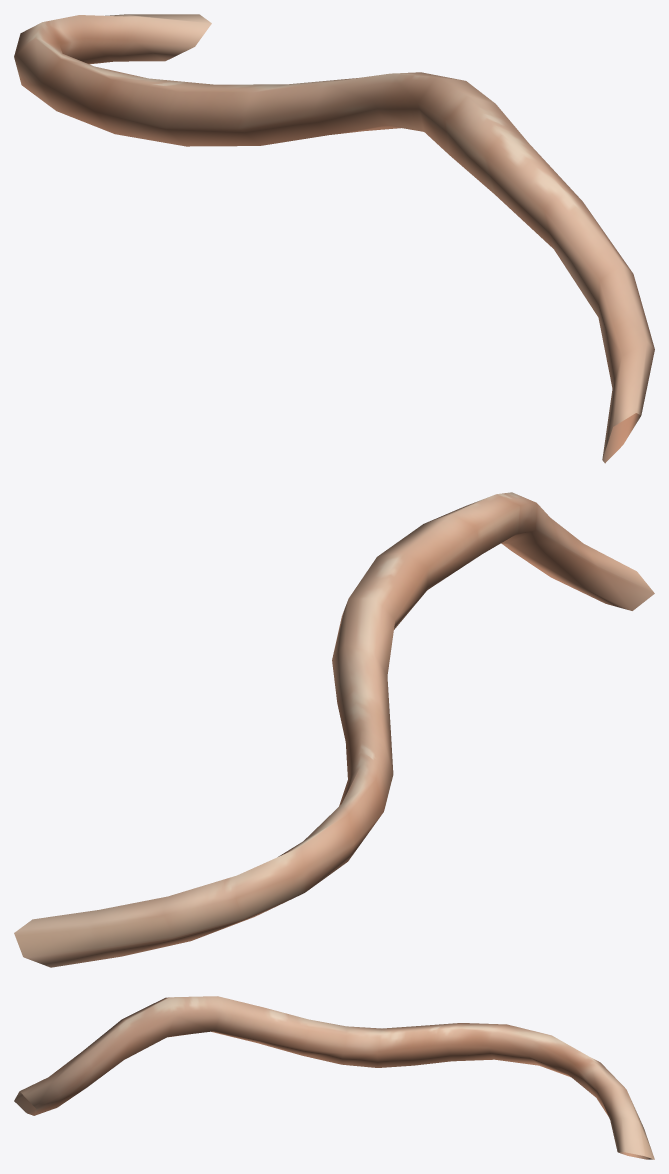
Rendered from ramennoodles_002.fbx.
3 views of the same model, one above another, from view 1: azimuth 30°, elevation 25°; view 2: azimuth 150°, elevation 25°; view 3: azimuth 270°, elevation 25° (orthographic). The views are drawn at different scales.
Visible parts, largest first — view 1: ramennoodles.002; view 2: ramennoodles.002; view 3: ramennoodles.002.
Boxes of the visible parts, box(x1,y1,x2,y2) form: ramennoodles.002: box(14, 14, 654, 463); ramennoodles.002: box(14, 492, 654, 967); ramennoodles.002: box(14, 996, 654, 1159).
Bounding box in the file's own units: 4.95 × 4.44 × 18.05.
